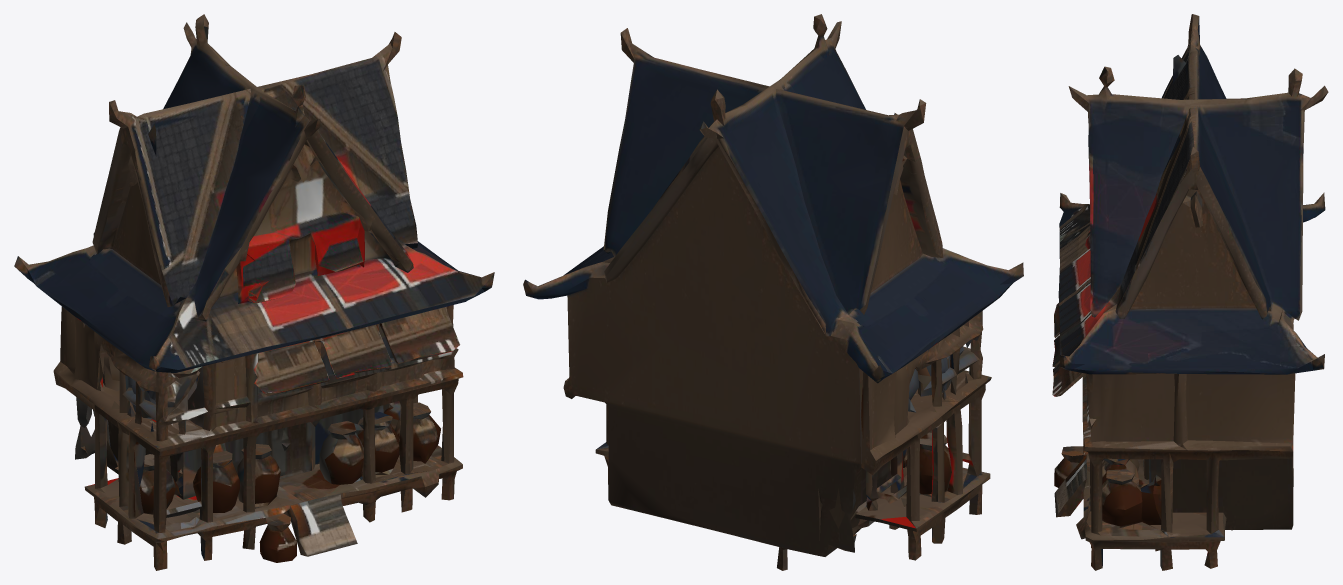
The model's file is ayutthaya_puerto_real.glb.
3 views of the same model, side by side, from view 1: azimuth 30°, elevation 25°; view 2: azimuth 150°, elevation 25°; view 3: azimuth 270°, elevation 25° (orthographic). The views are drawn at different scales.
Parts seen in each view (by area): view 1: geometry_0; view 2: geometry_0; view 3: geometry_0.
Part boxes in pixels (<box>): geometry_0: <box>14,14,494,570</box>; geometry_0: <box>523,14,1023,570</box>; geometry_0: <box>1052,14,1328,570</box>.
Bounding box in the file's own units: 3.4 × 4.2 × 2.41.
1 material, 1 textured.
